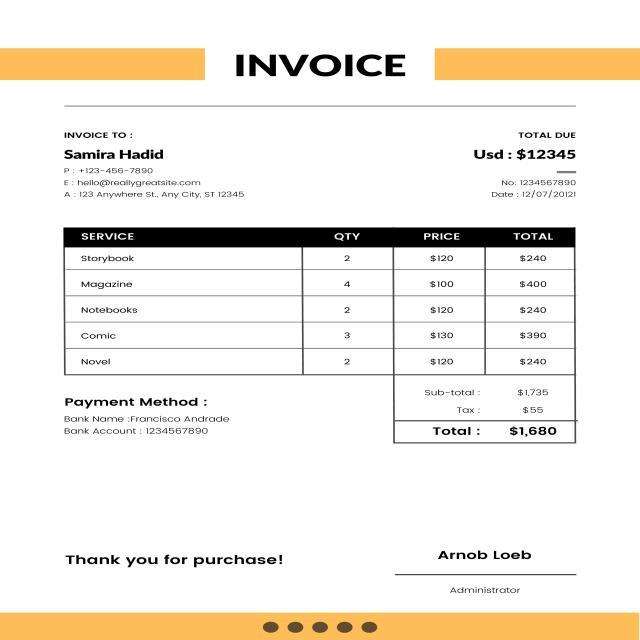ROI: (62, 226, 577, 372), (55, 126, 252, 207), (389, 376, 578, 448), (470, 122, 579, 199), (60, 399, 240, 440), (55, 555, 294, 579), (225, 50, 410, 79)
